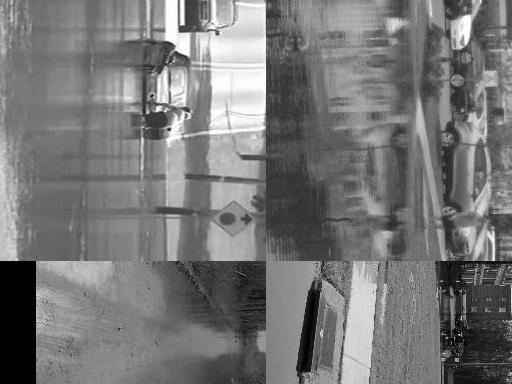road_waterlogging: (266, 0, 409, 261), (0, 0, 140, 261), (144, 149, 173, 261), (144, 0, 164, 47)
